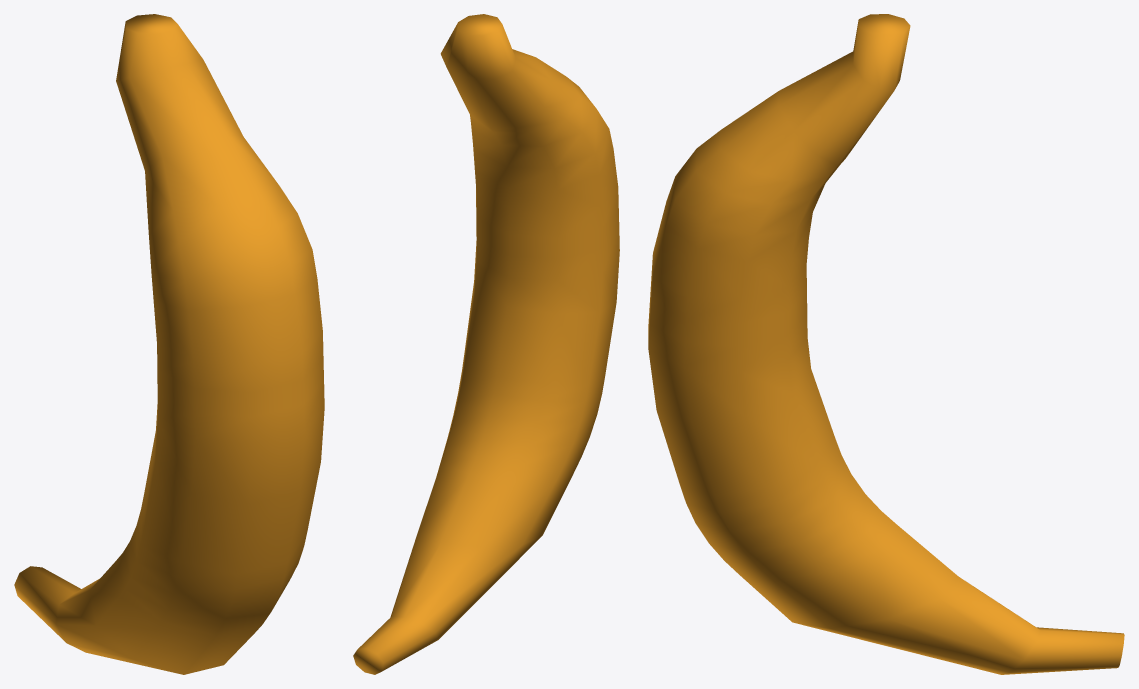
Rendered from banana.gltf.
3 renders of one model, left to right at view 1: azimuth 30°, elevation 25°; view 2: azimuth 150°, elevation 25°; view 3: azimuth 270°, elevation 25°, orthographic. The views are drawn at different scales.
Visible parts, largest first — view 1: Cylinder; view 2: Cylinder; view 3: Cylinder.
Part boxes in pixels (<box>): Cylinder: <box>14,14,324,674</box>; Cylinder: <box>353,14,619,674</box>; Cylinder: <box>648,14,1124,674</box>.
Bounding box in the file's own units: 1.97 × 8.64 × 5.78.
